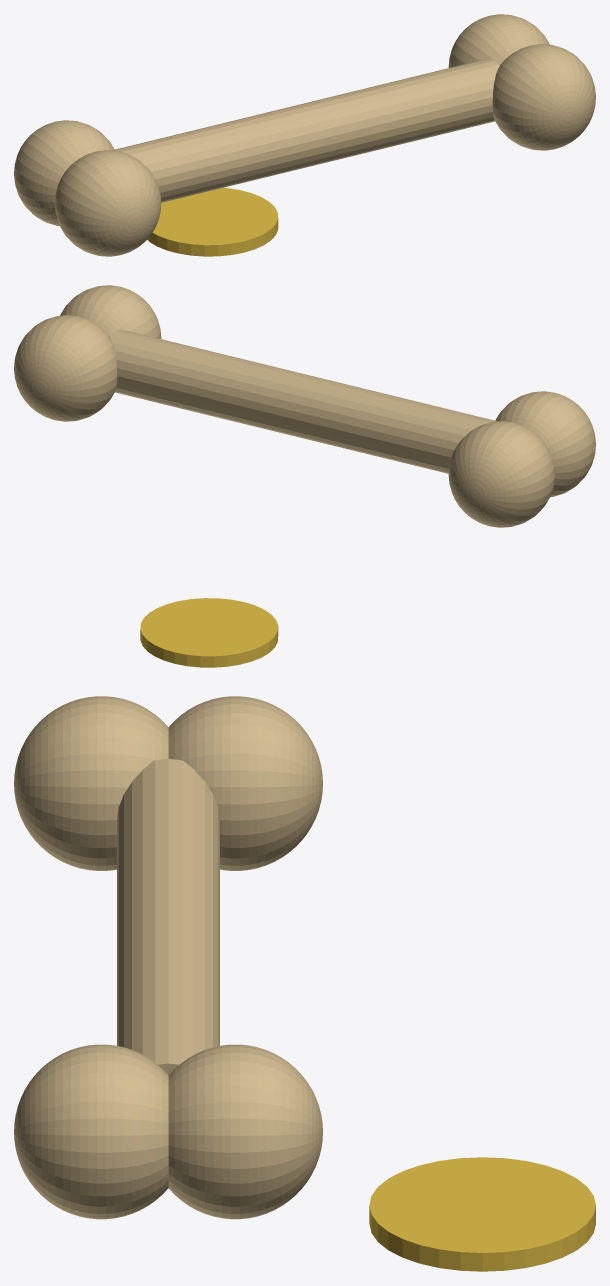
File: obstacle_doge_bone_barrier.glb
The picture shows the model from 3 angles, top to bottom: view 1: azimuth 30°, elevation 25°; view 2: azimuth 150°, elevation 25°; view 3: azimuth 270°, elevation 25°; orthographic projection. The views are drawn at different scales.
Parts seen in each view (by area): view 1: bone_bar, bone_knob_1, bone_knob_3, doge_coin, bone_knob, bone_knob_2; view 2: bone_bar, bone_knob, bone_knob_2, doge_coin, bone_knob_1, bone_knob_3; view 3: bone_bar, bone_knob_2, bone_knob_3, doge_coin, bone_knob, bone_knob_1.
Part boxes in pixels (x1=…): bone_bar: x1=112, y1=58, x2=499, y2=202; bone_knob_1: x1=54, y1=150, x2=161, y2=256; bone_knob_3: x1=492, y1=44, x2=595, y2=150; doge_coin: x1=147, y1=187, x2=278, y2=256; bone_knob: x1=14, y1=120, x2=114, y2=226; bone_knob_2: x1=448, y1=14, x2=549, y2=67; bone_bar: x1=110, y1=329, x2=497, y2=473; bone_knob: x1=448, y1=421, x2=555, y2=527; bone_knob_2: x1=14, y1=315, x2=117, y2=421; doge_coin: x1=140, y1=598, x2=278, y2=667; bone_knob_1: x1=495, y1=391, x2=595, y2=497; bone_knob_3: x1=60, y1=285, x2=161, y2=338; bone_bar: x1=117, y1=758, x2=219, y2=1075; bone_knob_2: x1=168, y1=1044, x2=322, y2=1219; bone_knob_3: x1=14, y1=1044, x2=168, y2=1219; doge_coin: x1=369, y1=1157, x2=595, y2=1271; bone_knob: x1=168, y1=696, x2=322, y2=870; bone_knob_1: x1=14, y1=696, x2=168, y2=870.
Bounding box in the file's own units: 1.94 × 0.7398 × 1.13.
